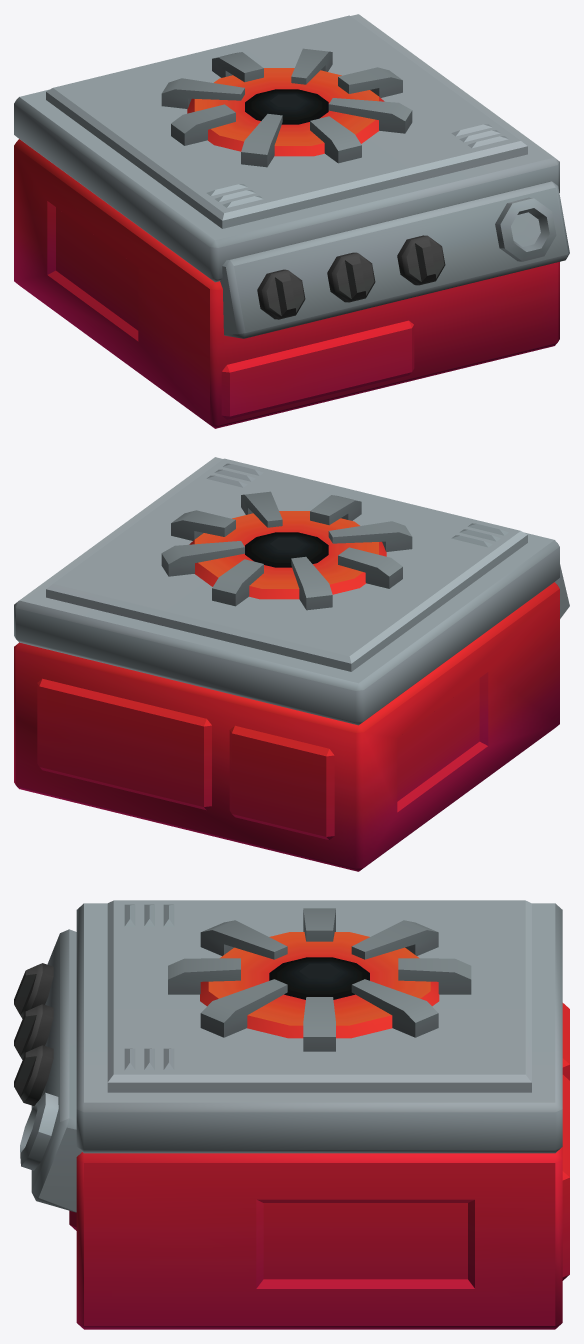
Rendered from kay-fogareiro.gltf.
3 renders of one model, top to bottom at view 1: azimuth 30°, elevation 25°; view 2: azimuth 150°, elevation 25°; view 3: azimuth 270°, elevation 25°, orthographic. The views are drawn at different scales.
Parts seen in each view (by area): view 1: stove_single; view 2: stove_single; view 3: stove_single.
Boxes of the visible parts, <box> form: stove_single: <box>14,14,569,428</box>; stove_single: <box>14,457,569,871</box>; stove_single: <box>14,900,569,1329</box>.
Size of the model in its own units: 1.3 by 0.7851 by 1.49.
1 material, 1 textured.
